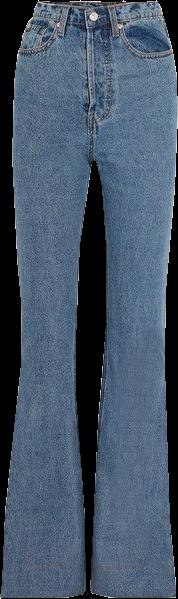Hemline: (0, 586, 86, 598), (90, 587, 177, 597)
Pantleg: (83, 1, 176, 597), (1, 3, 94, 596)
Waistline: (28, 14, 165, 33), (35, 0, 157, 10)
